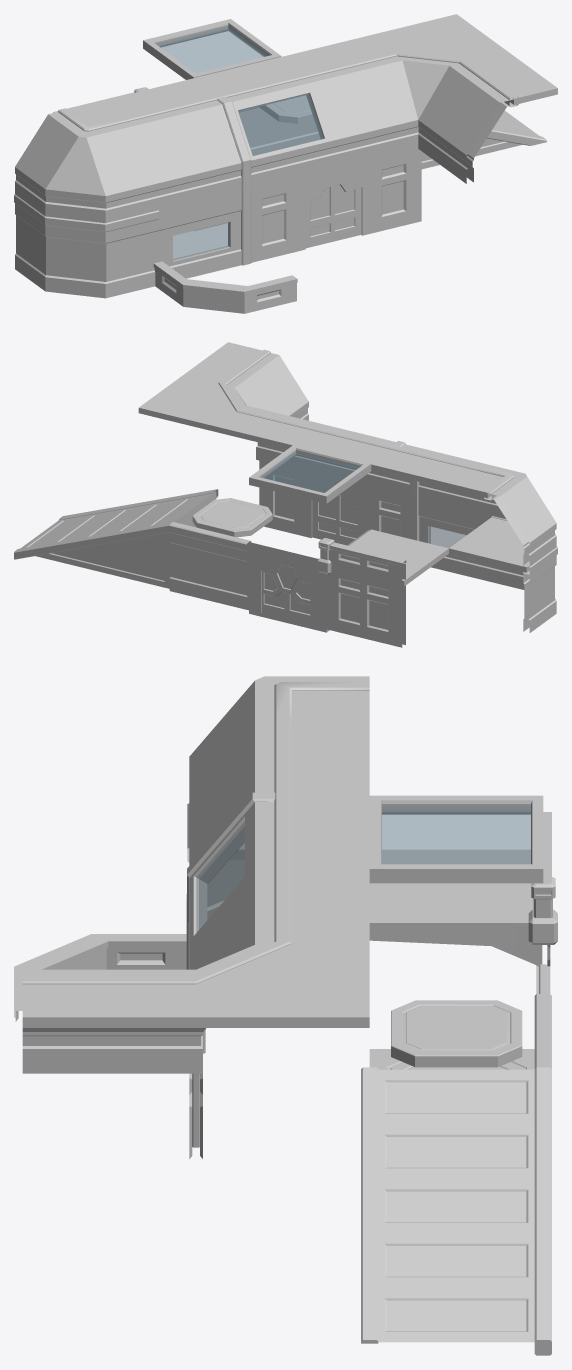
File: Future.ModBuilding.fbx
The picture shows the model from 3 angles, top to bottom: view 1: azimuth 30°, elevation 25°; view 2: azimuth 150°, elevation 25°; view 3: azimuth 270°, elevation 25°; orthographic projection. The views are drawn at different scales.
Parts seen in each view (by area): view 1: Future.Roof.Corner.2, Future.Roof.Corner.1, Future.Roof.1, Future.Wall.Corner, Future.Doorway.Lg, Future.Roof.2, Future.Wall.2, Future.Rail.Corner, Future.Roof.2.Window, Future.Floor.Frame.Window, Future.Floor.Frame, Future.Wall.1 (+9 smaller); view 2: Future.Roof.Corner.2, Future.Ramp, Future.Wall.3, Future.Doorway.Lg, Future.Roof.Corner.1, Future.Wall.1, Future.Roof.1, Future.Roof.2, Future.Doorway.Sm, Future.Wall.2, Future.Floor.Frame, Future.Floor.Corner (+14 smaller); view 3: Future.Roof.Corner.2, Future.Ramp, Future.Roof.1, Future.Roof.2, Future.Floor.1, Future.Floor.Frame.Window, Future.Roof.Corner.1, Future.Platform.1, Future.Floor.Frame, Future.Rail.Corner, Future.Beam.Ramp.2, Future.Beam.Ramp.1 (+8 smaller).
Boxes of the visible parts, x1,y1,x2,y2 form: Future.Roof.Corner.2: (282,14,557,183); Future.Roof.Corner.1: (15,99,158,223); Future.Roof.1: (106,78,241,211); Future.Wall.Corner: (15,203,158,298); Future.Doorway.Lg: (251,149,421,262); Future.Roof.2: (194,57,333,189); Future.Wall.2: (158,192,241,278); Future.Rail.Corner: (153,261,297,313); Future.Roof.2.Window: (238,93,323,155); Future.Floor.Frame.Window: (156,26,268,73); Future.Floor.Frame: (143,19,281,79); Future.Wall.1: (238,107,320,155); Future.Roof.Corner.2: (138,342,336,478); Future.Ramp: (20,491,216,588); Future.Wall.3: (324,565,405,647); Future.Doorway.Lg: (259,460,409,538); Future.Roof.Corner.1: (449,462,556,567); Future.Wall.1: (169,532,250,609); Future.Roof.1: (371,444,492,516); Future.Roof.2: (295,424,409,497); Future.Doorway.Sm: (247,542,324,628); Future.Wall.2: (418,499,492,581); Future.Floor.Frame: (249,445,371,503); Future.Floor.Corner: (449,517,529,572); Future.Roof.Corner.2: (22,868,369,1073); Future.Ramp: (378,1069,534,1342); Future.Roof.1: (189,721,369,865); Future.Roof.2: (189,795,369,947); Future.Floor.1: (369,849,533,926); Future.Floor.Frame.Window: (382,806,530,864); Future.Roof.Corner.1: (189,676,369,800); Future.Platform.1: (391,1000,522,1067); Future.Floor.Frame: (369,795,543,883); Future.Rail.Corner: (14,934,186,1021); Future.Beam.Ramp.2: (534,1067,551,1355); Future.Beam.Ramp.1: (361,1067,378,1343).
Size of the model in its own units: 3025 by 850 by 1567.
